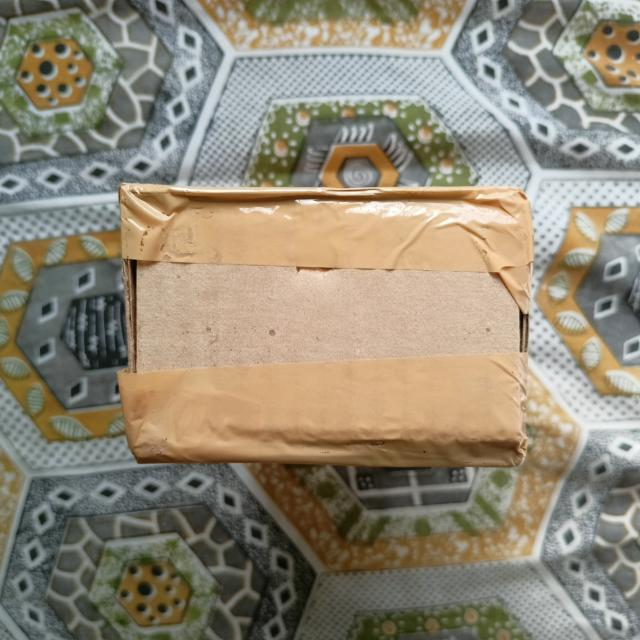box: (122, 189, 530, 463)
